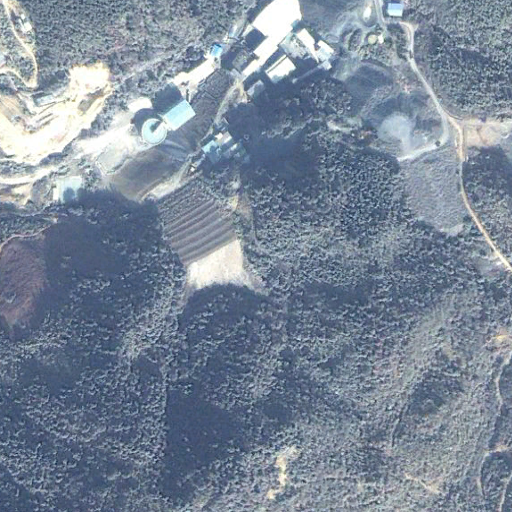tp: (141, 171, 273, 311)
